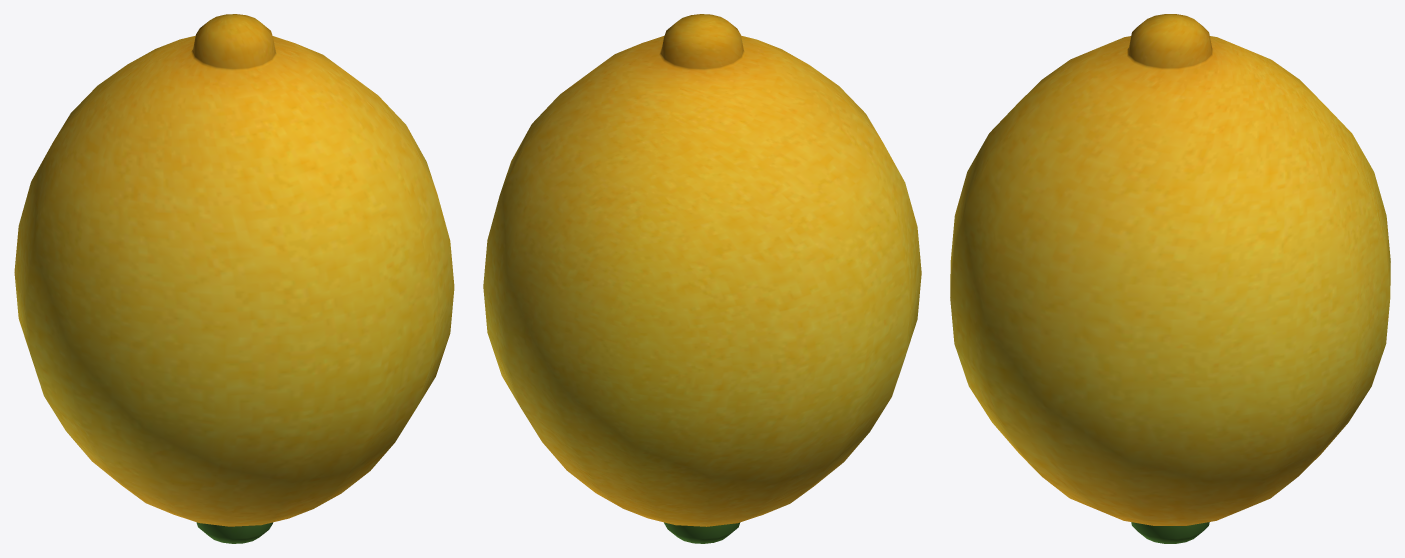
Rendered from 0-lemon.fbx.
3 views of the same model, side by side, from view 1: azimuth 30°, elevation 25°; view 2: azimuth 150°, elevation 25°; view 3: azimuth 270°, elevation 25° (orthographic).
Parts seen in each view (by area): view 1: 0-lemon; view 2: 0-lemon; view 3: 0-lemon.
Part boxes in pixels (x1,y1,x2,y2): 0-lemon: (14,14,454,543); 0-lemon: (483,14,921,543); 0-lemon: (950,14,1390,543).
Size of the model in its own units: 71.44 by 95.63 by 73.29.
